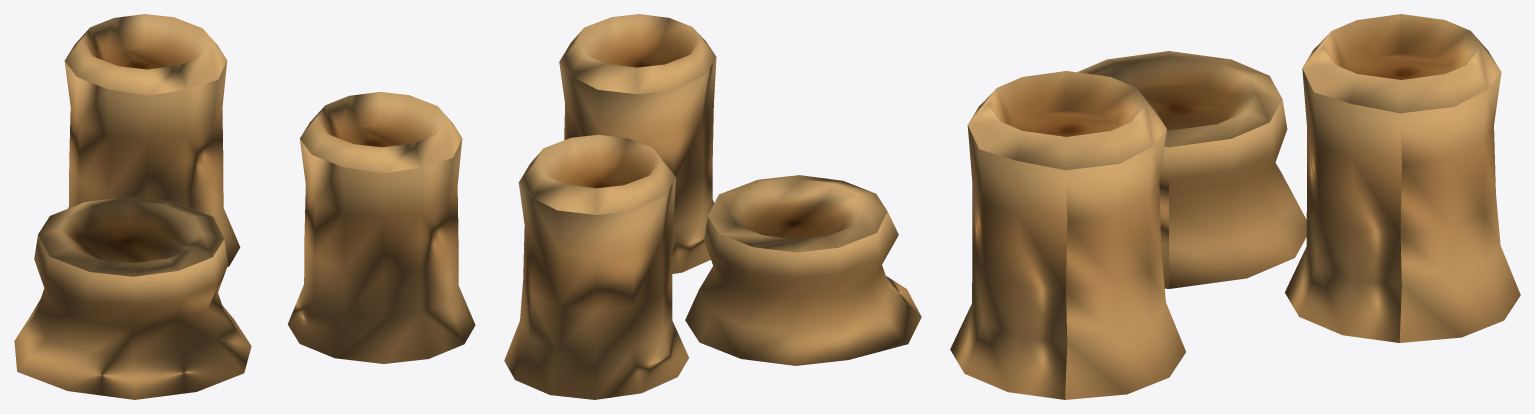
File: FloorDeco1B-002_02_25_1429.fbx
3 views of the same model, side by side, from view 1: azimuth 30°, elevation 25°; view 2: azimuth 150°, elevation 25°; view 3: azimuth 270°, elevation 25° (orthographic). The views are drawn at different scales.
Parts seen in each view (by area): view 1: PropCandles1 (2), PropCandles1, PropCandles1 (1); view 2: PropCandles1 (1), PropCandles1, PropCandles1 (2); view 3: PropCandles1 (2), PropCandles1 (1), PropCandles1.
Part boxes in pixels (box(x1,y1,x2,y2)): PropCandles1 (2): box(287, 92, 475, 363); PropCandles1: box(14, 196, 251, 399); PropCandles1 (1): box(64, 14, 240, 266); PropCandles1 (1): box(504, 134, 688, 399); PropCandles1: box(685, 175, 921, 365); PropCandles1 (2): box(559, 14, 716, 273); PropCandles1 (2): box(950, 71, 1185, 399); PropCandles1 (1): box(1285, 14, 1520, 342); PropCandles1: box(1077, 51, 1306, 288).
Bounding box in the file's own units: 1.38 × 0.6714 × 1.4.
